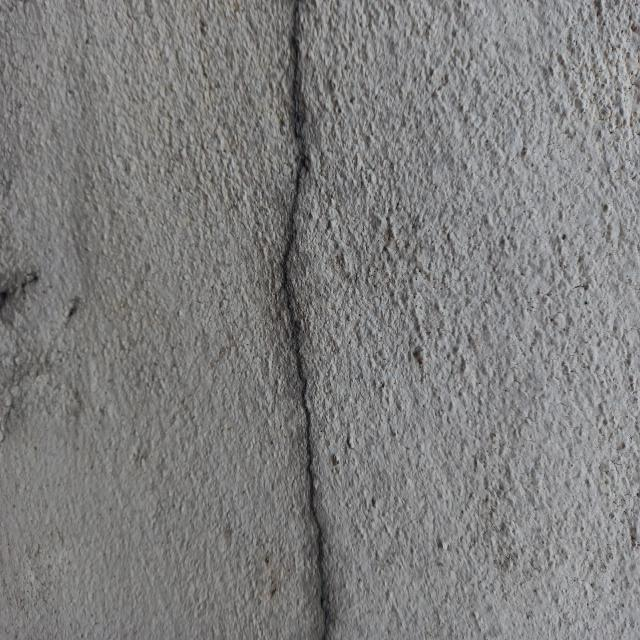SurfaceCrack: (217, 0, 385, 639)
